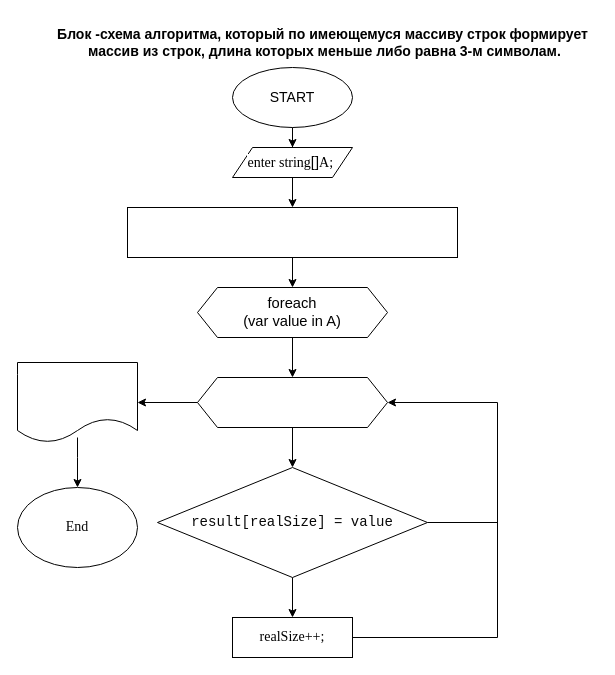
This 615x675 diagram has some shape labels left out. The shapes that lost their labels are listed below. From the top down, each one's centre as x and y in pixels, then its label:
At pixel 292 232: "var result = new string[A .Length] ; var realSize = 0 ; var value".
At pixel 77 402: "output".
At pixel 292 402: "if (value.Length <= 3)".
